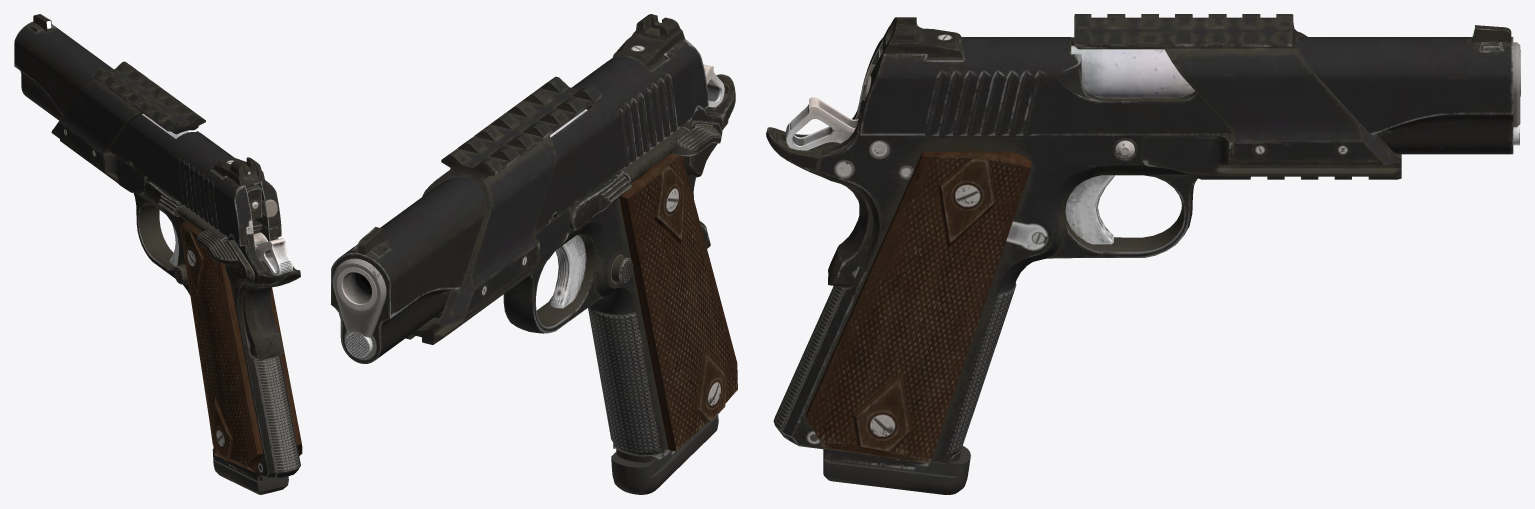
3 views of the same model, side by side, from view 1: azimuth 30°, elevation 25°; view 2: azimuth 150°, elevation 25°; view 3: azimuth 270°, elevation 25° (orthographic). The views are drawn at different scales.
Visible parts, largest first — view 1: ANCHOR, SLIDE, FRAME, SAFETY, MAGAZINE, HAMMER, LEVER; view 2: ANCHOR, SLIDE, FRAME, MAGAZINE, SAFETY, TRIGGER, LEVER, HAMMER, RELEASE; view 3: ANCHOR, SLIDE, FRAME, MAGAZINE, TRIGGER, HAMMER.
Boxes of the visible parts, x1,y1,x2,y2 form: ANCHOR: (133,113,302,477); SLIDE: (14,14,281,246); FRAME: (51,61,205,195); SAFETY: (196,230,254,288); MAGAZINE: (212,448,288,494); HAMMER: (254,232,292,275); LEVER: (144,180,183,216); ANCHOR: (337,74,737,459); SLIDE: (331,14,708,363); FRAME: (405,76,601,344); MAGAZINE: (611,415,718,494); SAFETY: (672,119,722,177); TRIGGER: (550,235,585,308); LEVER: (569,171,631,230); HAMMER: (703,64,724,107); RELEASE: (611,256,632,283); ANCHOR: (766,45,1520,463); SLIDE: (859,17,1520,154); FRAME: (1074,14,1401,179); MAGAZINE: (823,446,970,494); TRIGGER: (1065,175,1114,244); HAMMER: (786,97,858,150).
Size of the model in its own units: 0.0372 by 0.1599 by 0.2341.
Materials: 3 (1 with a texture image).
